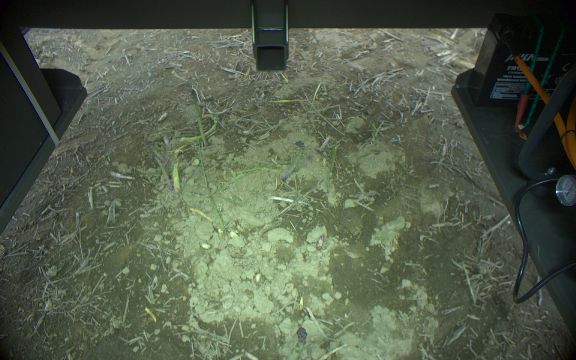aspa: (179, 111, 220, 141), (188, 89, 208, 147), (281, 138, 303, 180), (150, 155, 172, 191), (207, 195, 224, 238), (289, 327, 308, 360), (168, 160, 183, 194), (146, 138, 166, 162)
